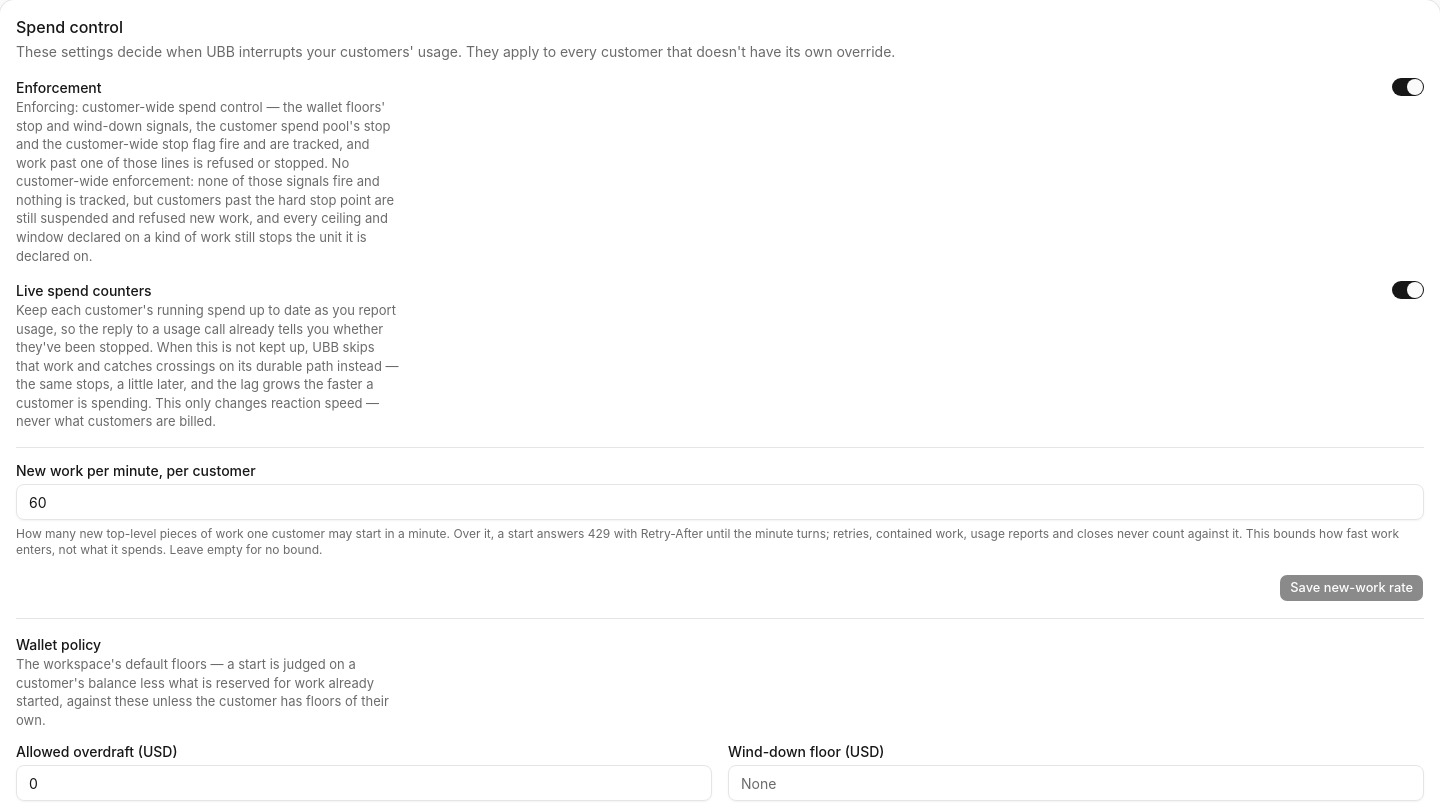
Test: SpendControlCard › saves a changed rate through the one config route
This screenshot has width=1440, height=808.
Replace the text in the number field labelled "New work per minute, per customer" with "12". click: coordinates (720, 502)
box: [16,484,1424,520]
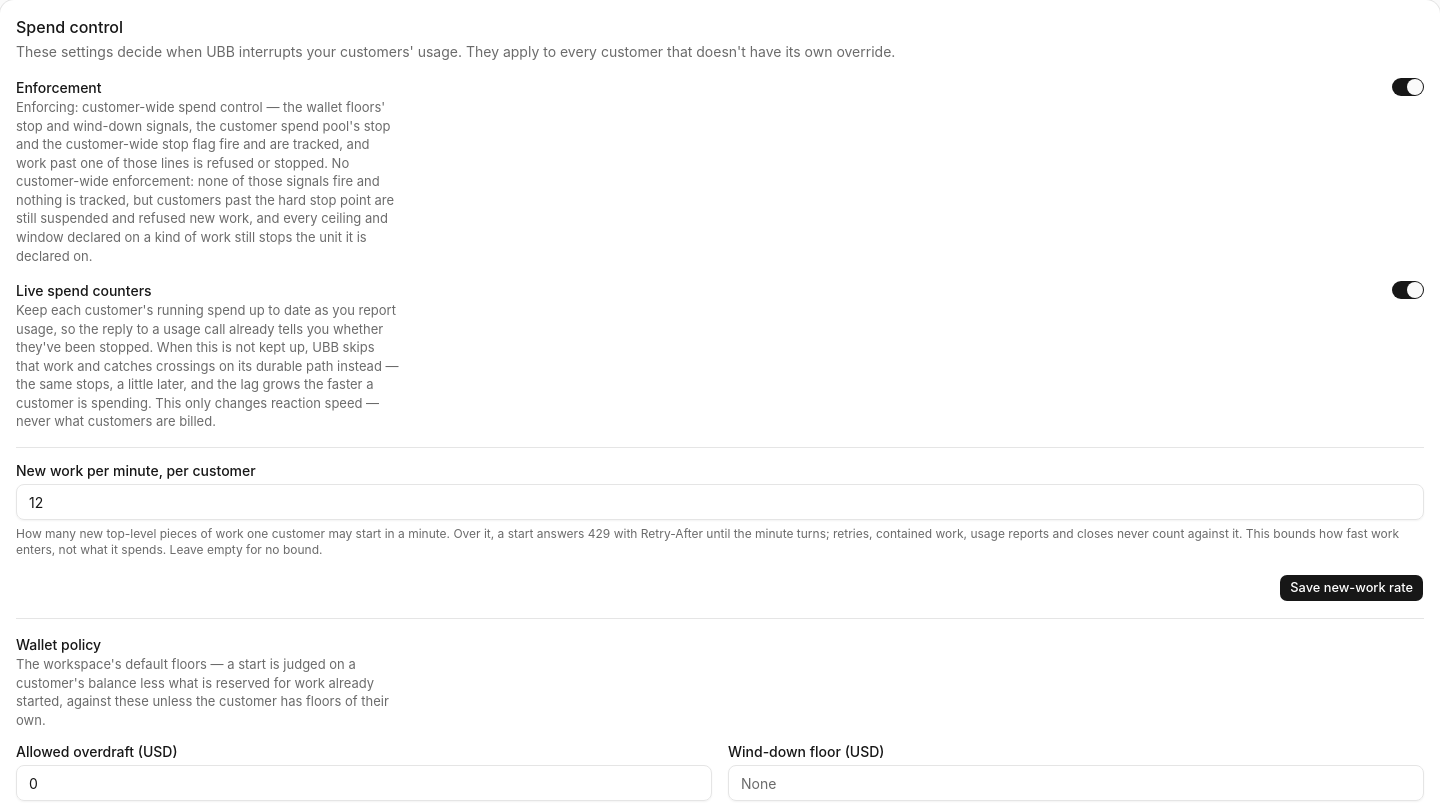
Result: the button "Save new-work rate" is enabled
Click the button "Save new-work rate". click: coordinates (1352, 588)
box: [1279,574,1424,602]
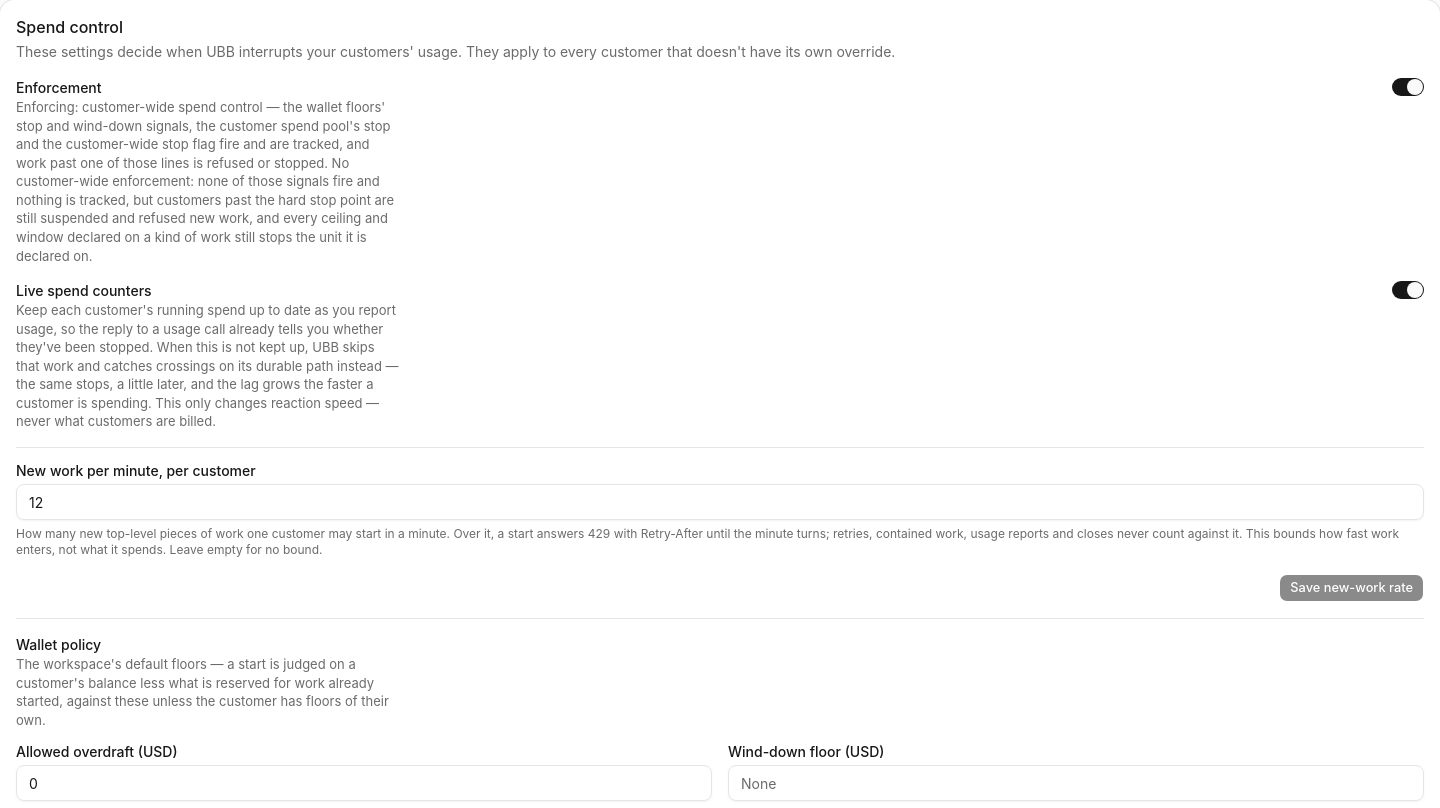
Result: the button "Save new-work rate" is disabled at [1279,574,1424,602]
